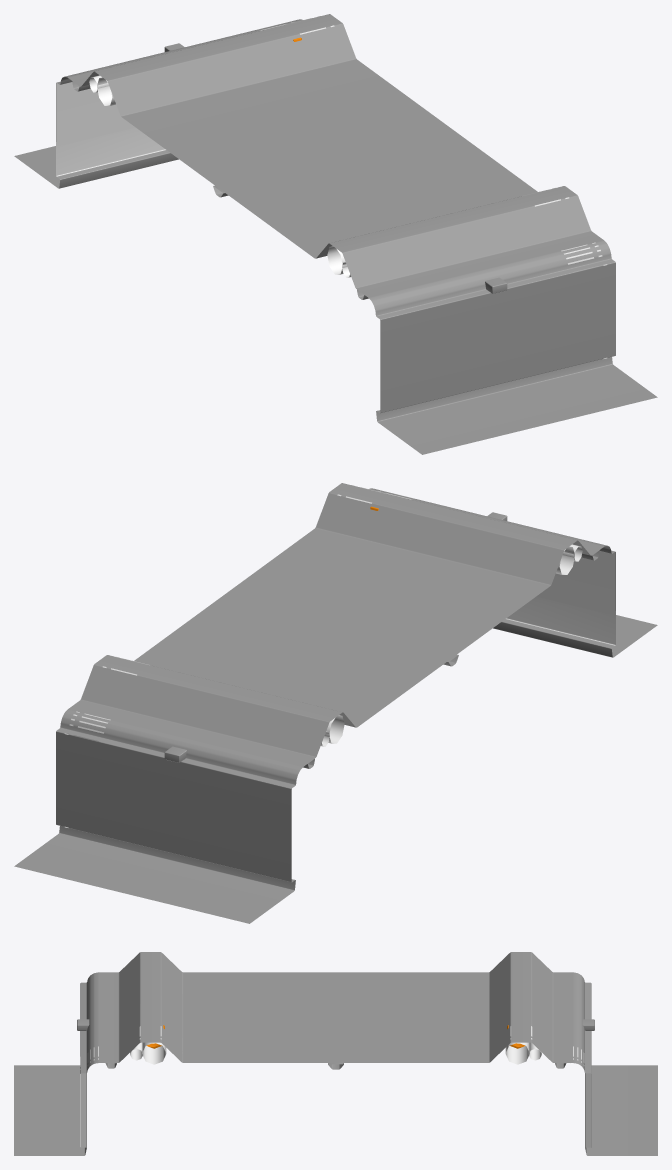
File: RoofSegment.fbx
3 renders of one model, top to bottom at view 1: azimuth 30°, elevation 25°; view 2: azimuth 150°, elevation 25°; view 3: azimuth 270°, elevation 25°, orthographic. The views are drawn at different scales.
Parts seen in each view (by area): view 1: Plane.002, StylizedHardSurface_TrimDecals_004.003_projected, StylizedHardSurface_TrimDecals_004.001_projected, StylizedHardSurface_TrimDecals_004.002_projected, Plane.006; view 2: Plane.002, StylizedHardSurface_TrimDecals_004.003_projected, StylizedHardSurface_TrimDecals_004.001_projected, StylizedHardSurface_TrimDecals_004.002_projected, Plane.006; view 3: Plane.002, Plane.006.
Part boxes in pixels (left/top/right/bottom): Plane.002: left=14, top=14, right=657, bottom=454; StylizedHardSurface_TrimDecals_004.003_projected: left=56, top=127, right=165, bottom=176; StylizedHardSurface_TrimDecals_004.001_projected: left=56, top=100, right=135, bottom=146; StylizedHardSurface_TrimDecals_004.002_projected: left=56, top=82, right=102, bottom=117; Plane.006: left=89, top=75, right=350, bottom=277; Plane.002: left=14, top=483, right=657, bottom=923; StylizedHardSurface_TrimDecals_004.003_projected: left=506, top=595, right=615, bottom=645; StylizedHardSurface_TrimDecals_004.001_projected: left=536, top=569, right=615, bottom=615; StylizedHardSurface_TrimDecals_004.002_projected: left=568, top=551, right=615, bottom=585; Plane.006: left=321, top=544, right=582, bottom=746; Plane.002: left=14, top=952, right=657, bottom=1155; Plane.006: left=130, top=1042, right=541, bottom=1064.
Bounding box in the file's own units: 200 × 116 × 600.
